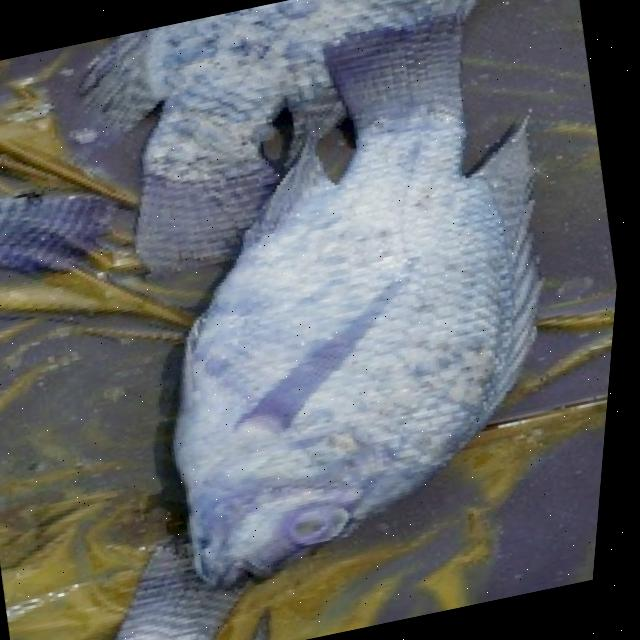Non-Fresh: (111, 163, 519, 596)
